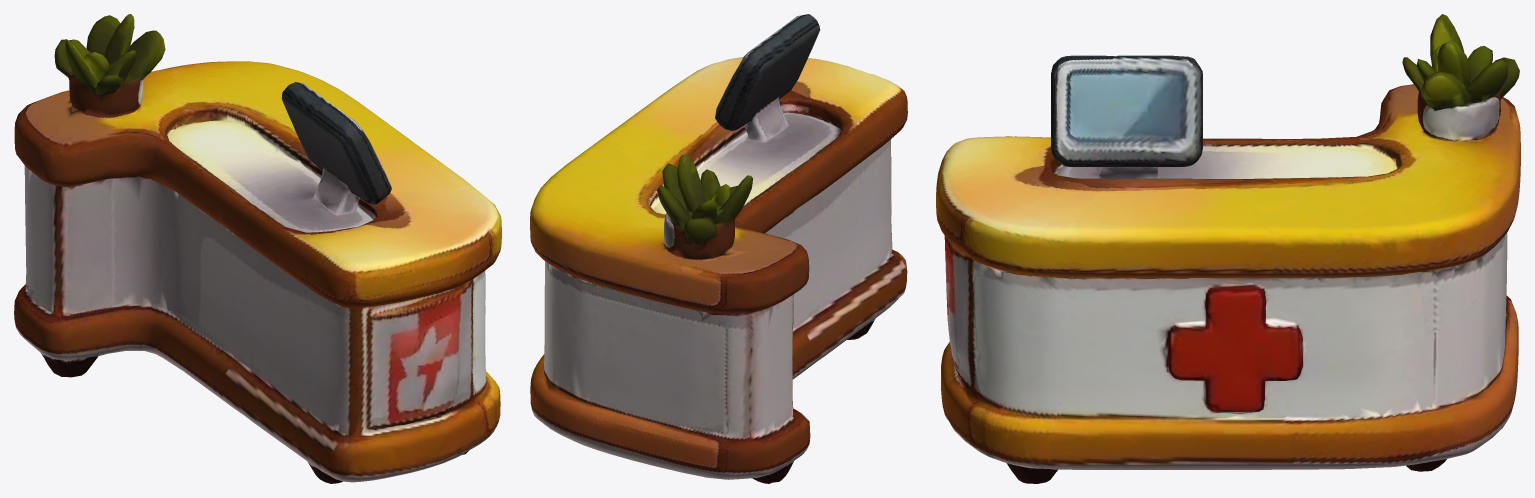
Rendered from counter.glb.
The picture shows the model from 3 angles, left to right: view 1: azimuth 30°, elevation 25°; view 2: azimuth 150°, elevation 25°; view 3: azimuth 270°, elevation 25°; orthographic projection. The views are drawn at different scales.
Visible parts, largest first — view 1: tripo_node_b9555e1d-844a-4edf-ac8a-23b471437967; view 2: tripo_node_b9555e1d-844a-4edf-ac8a-23b471437967; view 3: tripo_node_b9555e1d-844a-4edf-ac8a-23b471437967.
Part boxes in pixels (x1=…): tripo_node_b9555e1d-844a-4edf-ac8a-23b471437967: x1=14, y1=14, x2=501, y2=483; tripo_node_b9555e1d-844a-4edf-ac8a-23b471437967: x1=530, y1=14, x2=907, y2=483; tripo_node_b9555e1d-844a-4edf-ac8a-23b471437967: x1=936, y1=14, x2=1520, y2=483.
Size of the model in its own units: 0.6266 by 0.7118 by 0.9999.
1 material, 1 textured.
